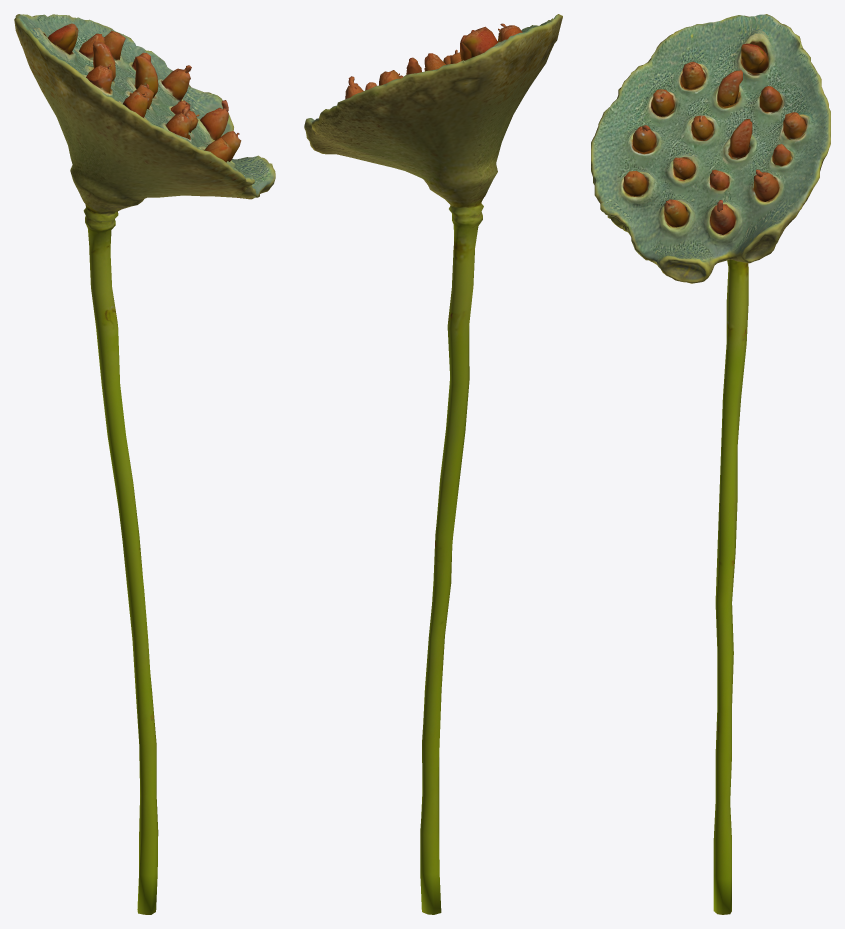
Rendered from flower-02.glb.
3 renders of one model, left to right at view 1: azimuth 30°, elevation 25°; view 2: azimuth 150°, elevation 25°; view 3: azimuth 270°, elevation 25°, orthographic. The views are drawn at different scales.
Visible parts, largest first — view 1: tripo_node_05e086b4-1983-4fd8-8cbc-5ae21aa767a7; view 2: tripo_node_05e086b4-1983-4fd8-8cbc-5ae21aa767a7; view 3: tripo_node_05e086b4-1983-4fd8-8cbc-5ae21aa767a7.
Part boxes in pixels (x1,y1,x2,y2): tripo_node_05e086b4-1983-4fd8-8cbc-5ae21aa767a7: (14, 14, 275, 914); tripo_node_05e086b4-1983-4fd8-8cbc-5ae21aa767a7: (304, 14, 562, 914); tripo_node_05e086b4-1983-4fd8-8cbc-5ae21aa767a7: (591, 14, 830, 914).
Size of the model in its own units: 0.2441 by 0.998 by 0.2559.
1 material, 1 textured.
